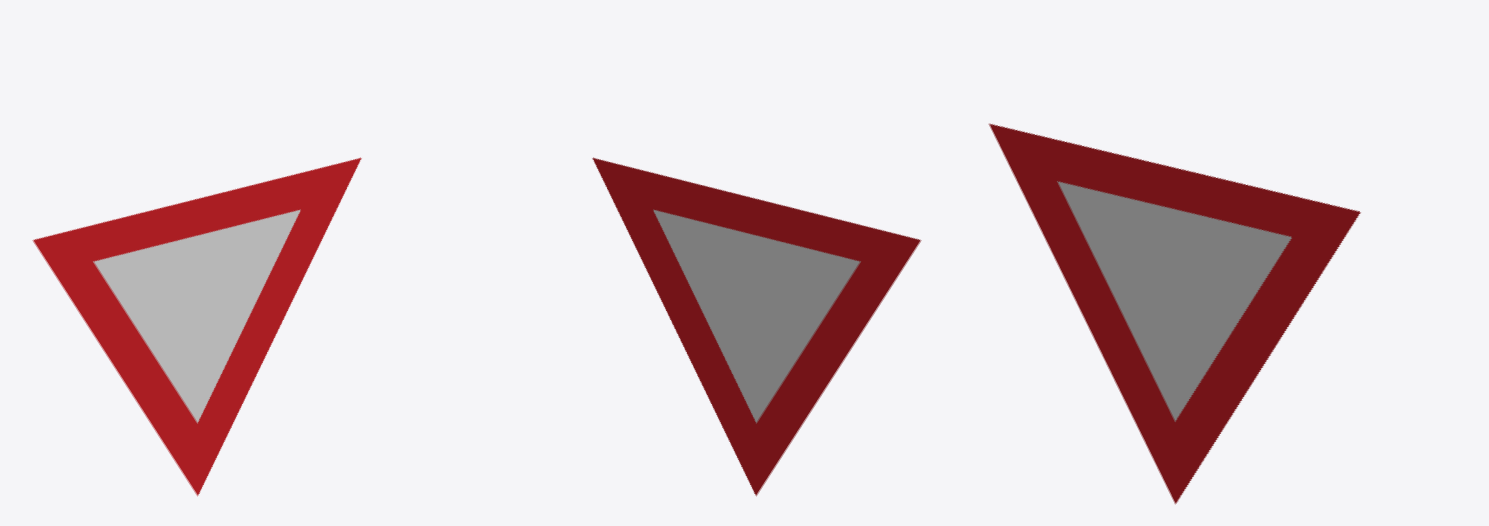
The model's file is sign.glb.
3 renders of one model, left to right at view 1: azimuth 30°, elevation 25°; view 2: azimuth 150°, elevation 25°; view 3: azimuth 330°, elevation 25°, orthographic. The views are drawn at different scales.
Visible parts, largest first — view 1: mesh_id26; view 2: mesh_id26; view 3: mesh_id26.
Boxes of the visible parts, box(x1,y1,x2,y2) form: mesh_id26: box(32, 157, 361, 496); mesh_id26: box(592, 157, 921, 496); mesh_id26: box(988, 123, 1360, 504).
Size of the model in its own units: 3.44 by 3.44 by 0.
Materials: 1 (1 with a texture image).
